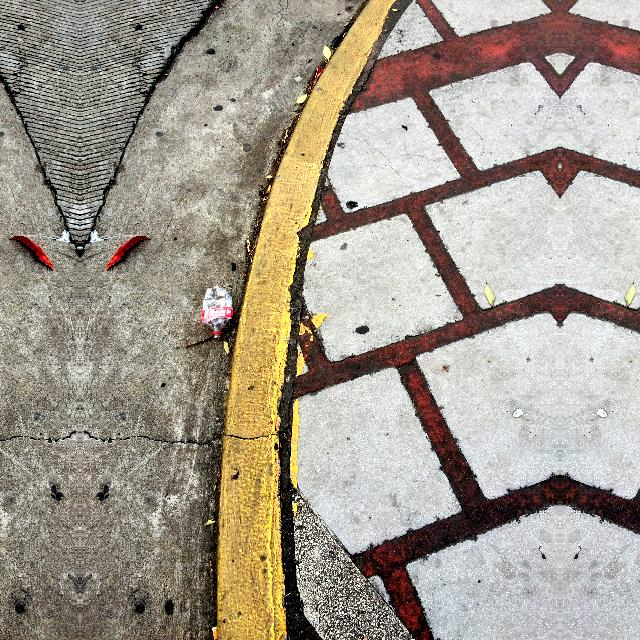Plastic: (201, 282, 237, 344)
